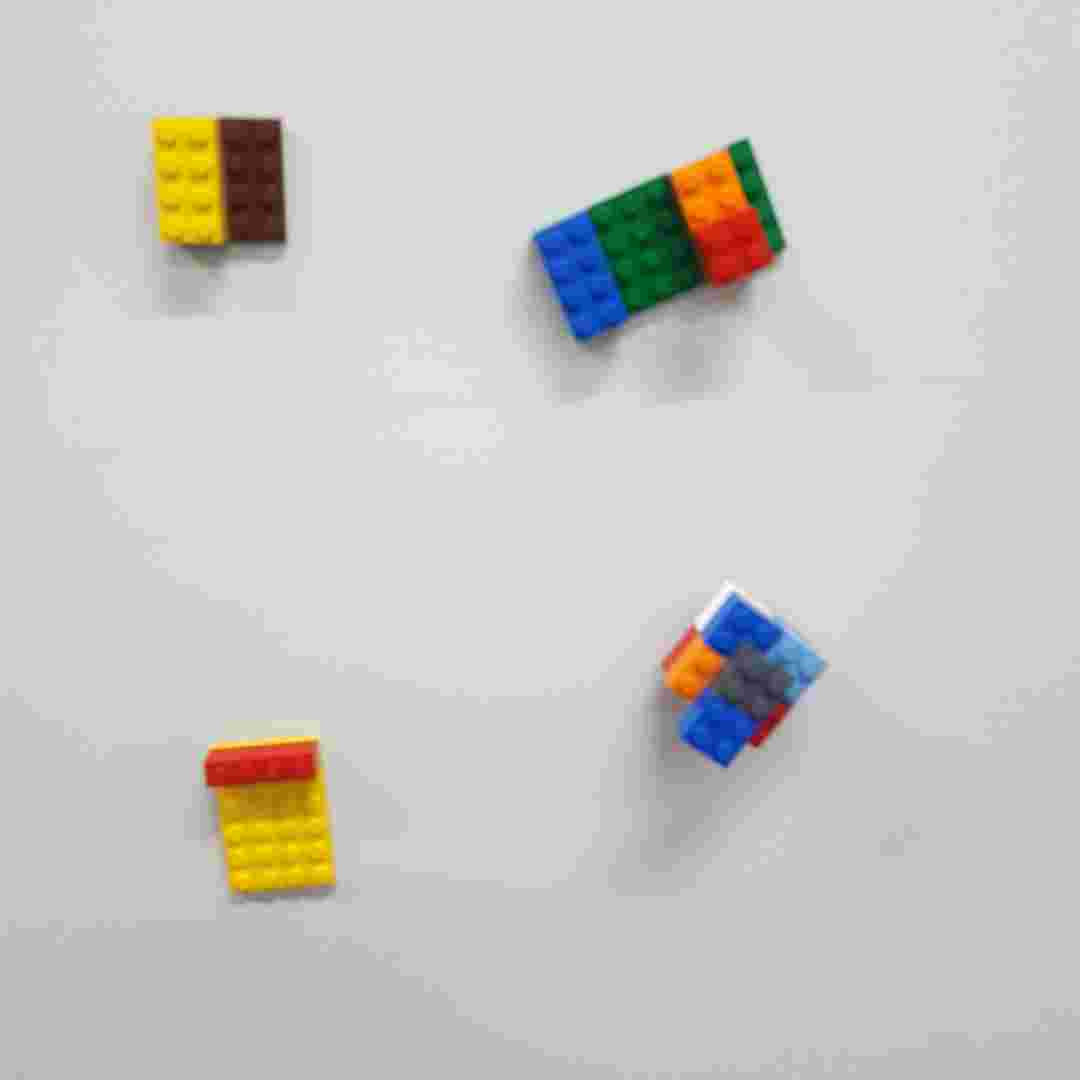LEGO: (527, 134, 793, 345), (651, 582, 831, 771), (205, 735, 341, 898), (146, 109, 294, 248)
